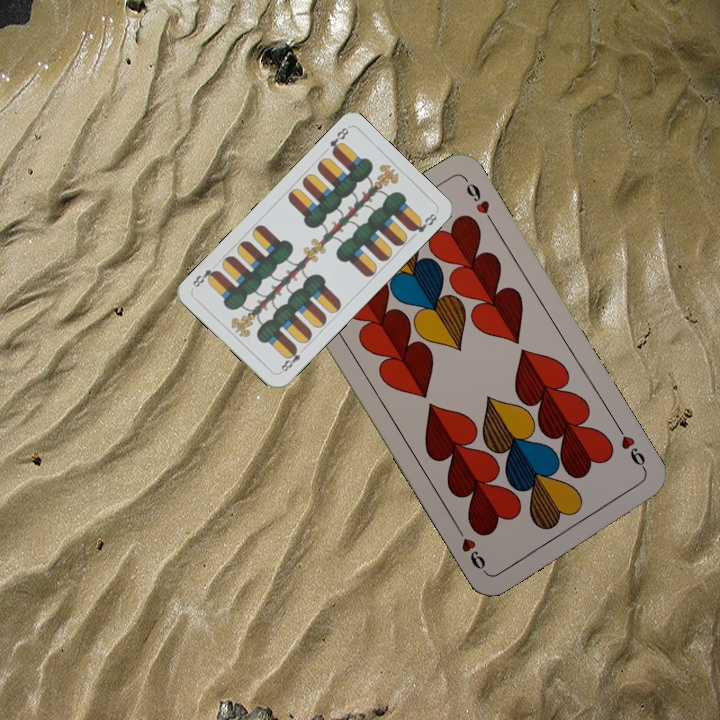E8: (276, 343, 308, 376), (325, 123, 351, 158)
H9: (613, 422, 650, 475)
